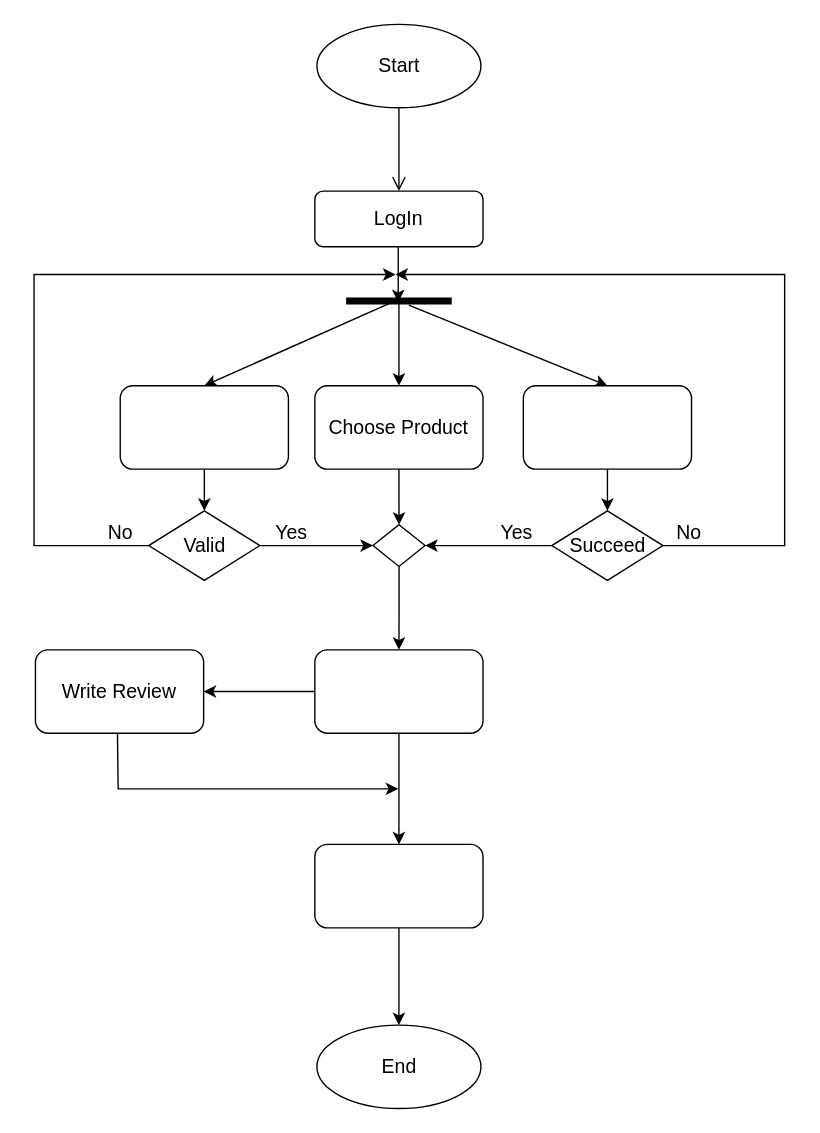
This 820x1133 diagram has some shape labels left out. The shapes that lost their labels are listed below. From the top down, each one's centre as x and y in pixels, then its label:
the point at 203,426: Search Product
the point at 607,426: Scan Barcode
the point at 398,690: Select Store
the point at 398,885: Add Product to Cart
